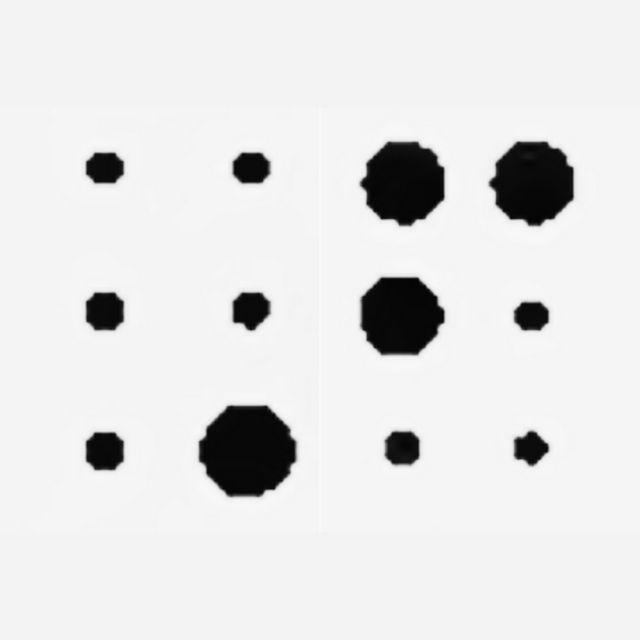F: (358, 140, 574, 497)
capital: (61, 139, 295, 496)
